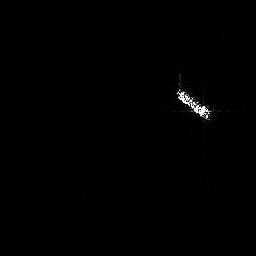ship: (177, 87, 211, 120)
